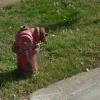Hydrant: (11, 15, 50, 84)
